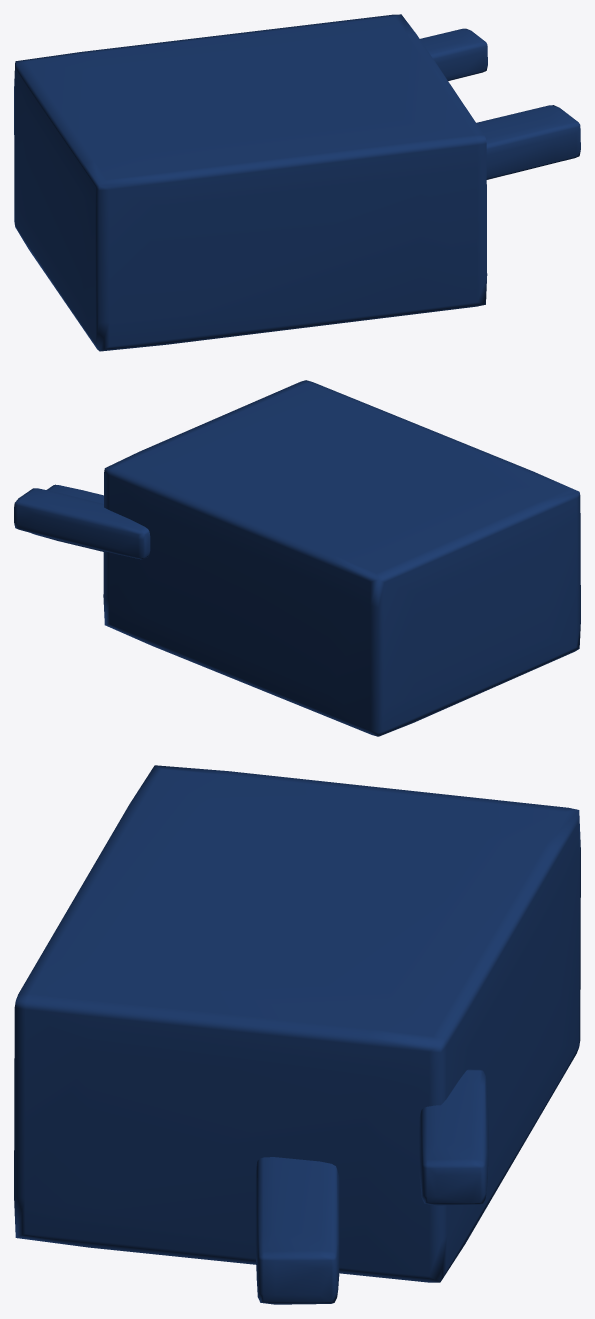
Rendered from mirror_r.glb.
3 views of the same model, one above another, from view 1: azimuth 30°, elevation 25°; view 2: azimuth 150°, elevation 25°; view 3: azimuth 270°, elevation 25° (orthographic). The views are drawn at different scales.
Visible parts, largest first — view 1: GEO_Mirror_R; view 2: GEO_Mirror_R; view 3: GEO_Mirror_R.
Part boxes in pixels (<box>): GEO_Mirror_R: <box>14,14,580,351</box>; GEO_Mirror_R: <box>14,380,580,736</box>; GEO_Mirror_R: <box>14,765,580,1304</box>.
Size of the model in its own units: 0.22 by 0.0699 by 0.1451.
